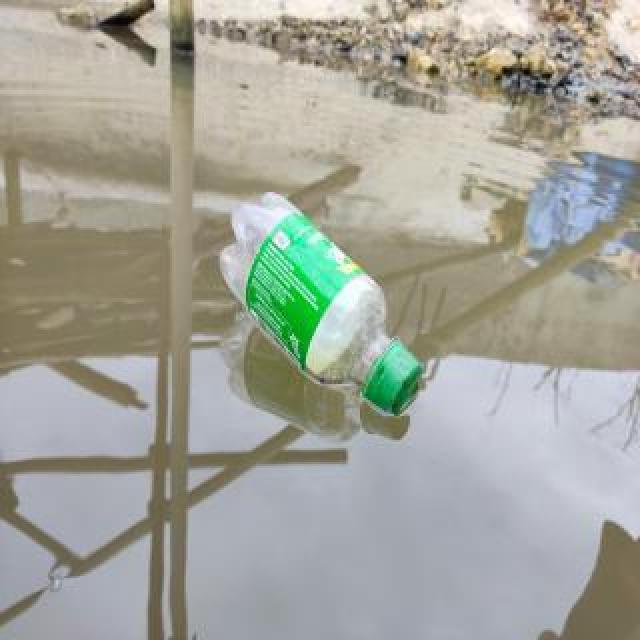bottle: (218, 185, 426, 421)
